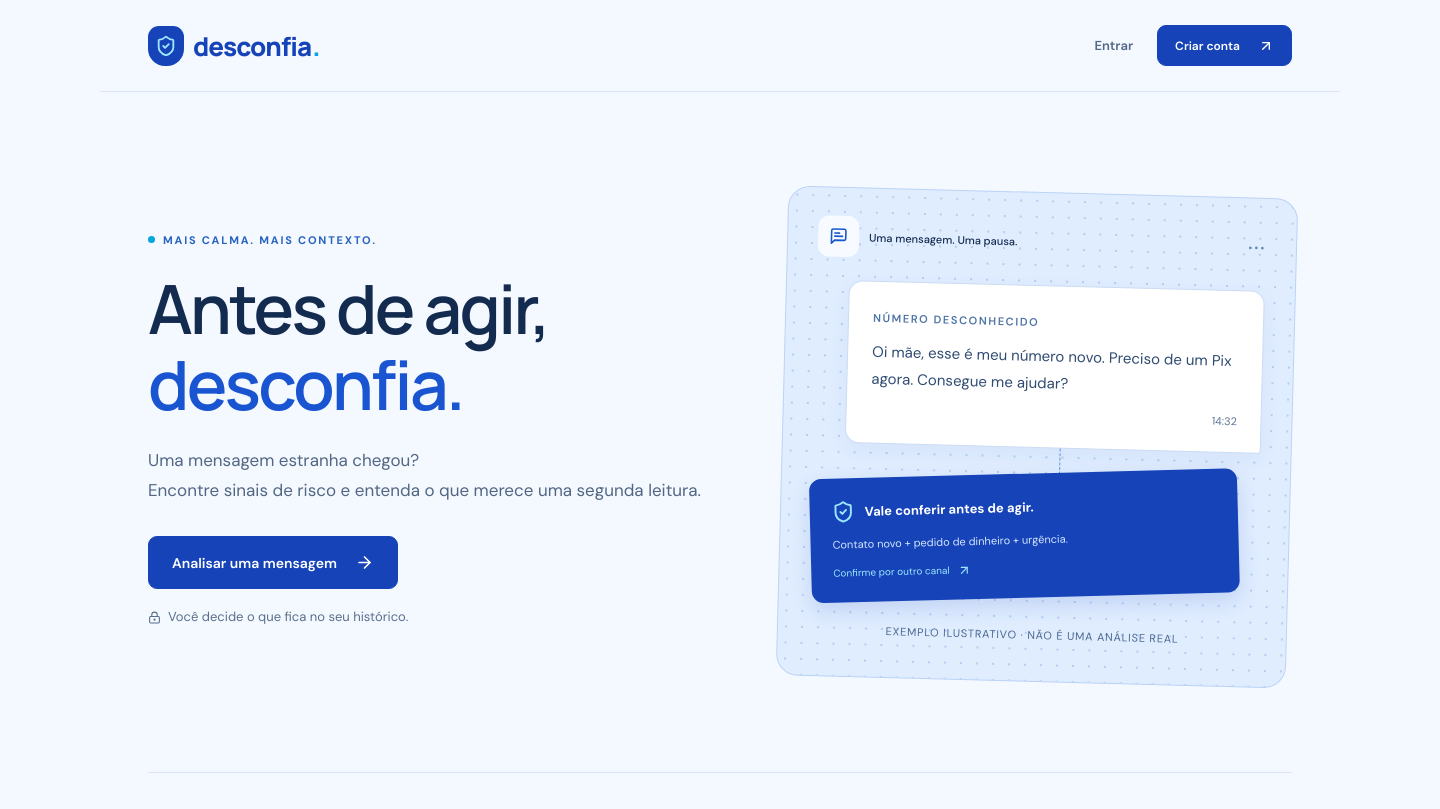
Test: Fluxos do Desconfia › encerra a sessão ao receber erro 401 durante uma ação autenticada
The image size is (1440, 809).
Step 1. Click the button "Entrar" → (1114, 46), box [1094,29,1133,62]
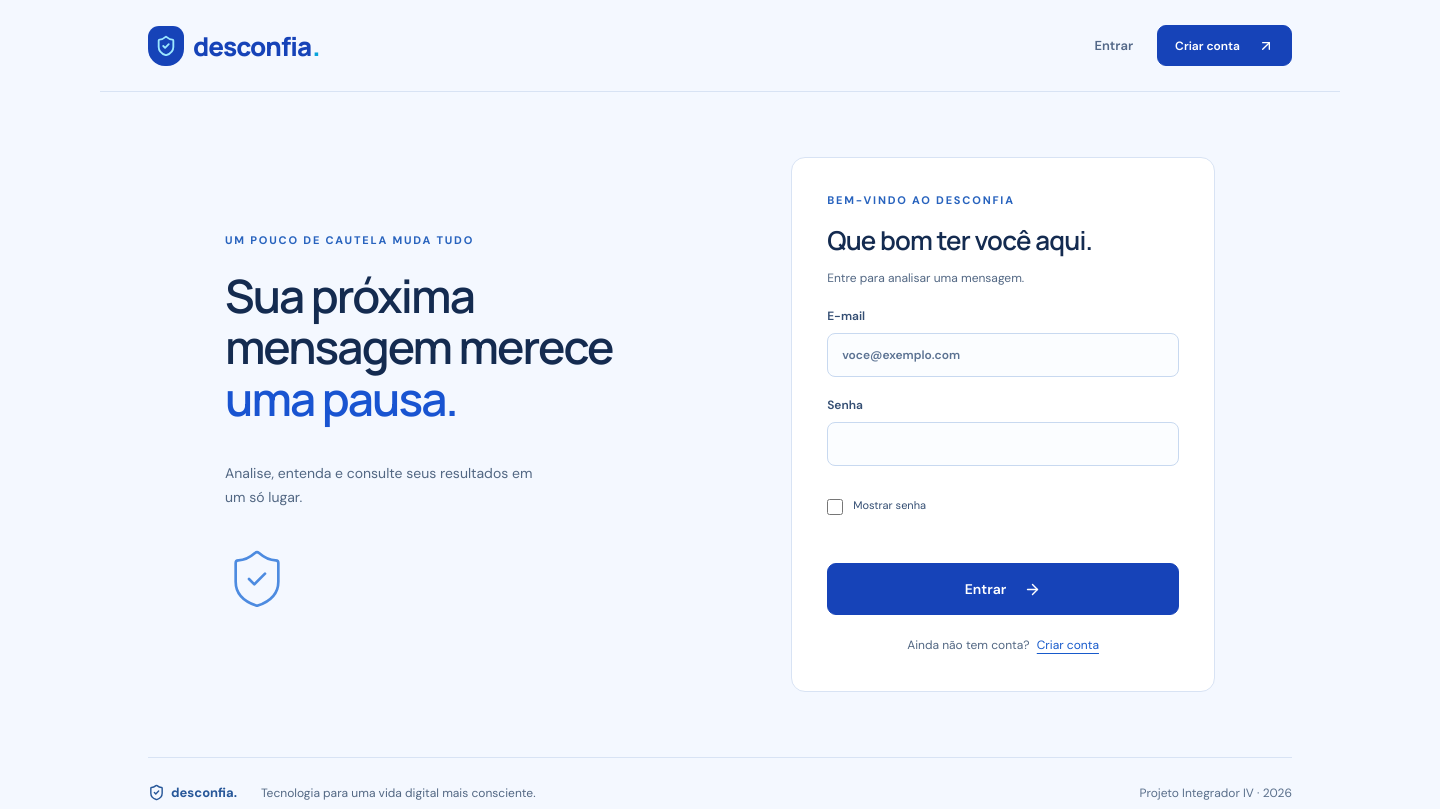
Step 2. Type "teste@example.com" into the field labelled "E-mail" → (1003, 355), box [827,333,1179,377]
Step 3. Type "Teste123!" into the password field labelled "Senha" → (1003, 444), box [827,422,1179,466]
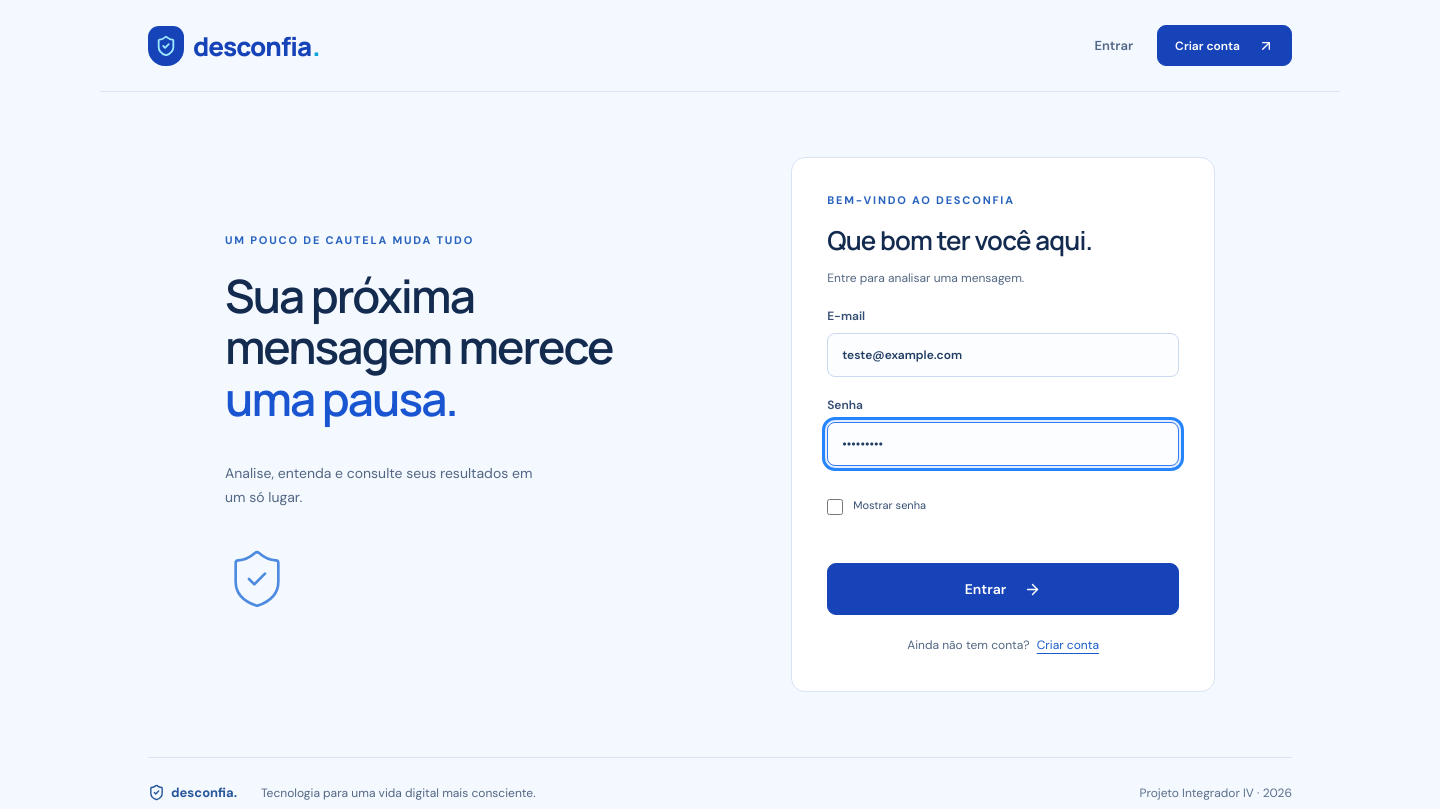
Step 4. Click the button "Entrar" below "Mostrar senha" → (1003, 589), box [827,563,1179,615]
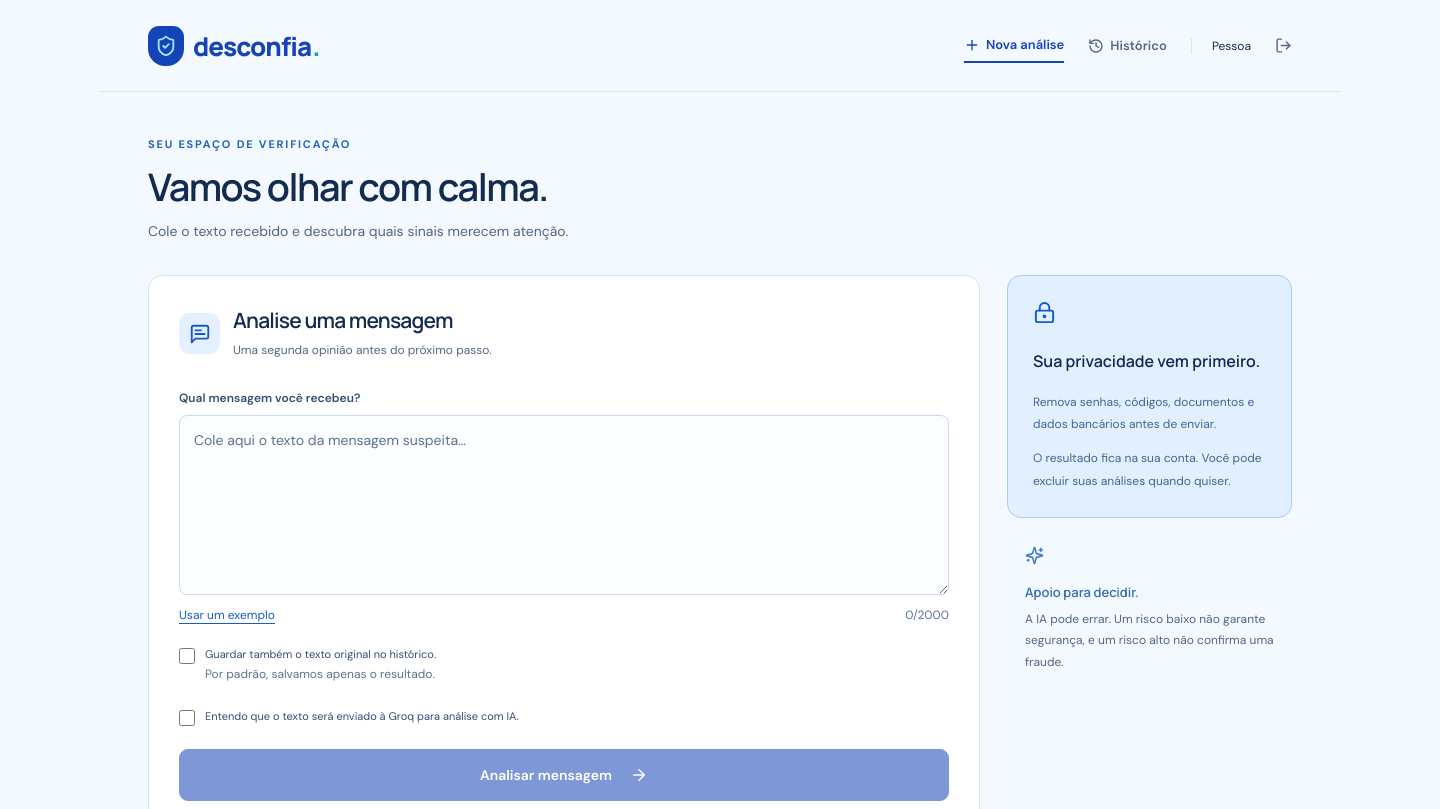
Now the heading "Vamos olhar com calma." is shown, box [148,160,548,212]
Step 5. Type "Teste de sessão" into the text box labelled "Qual mensagem você recebeu?" → (564, 505), box [179,415,949,595]
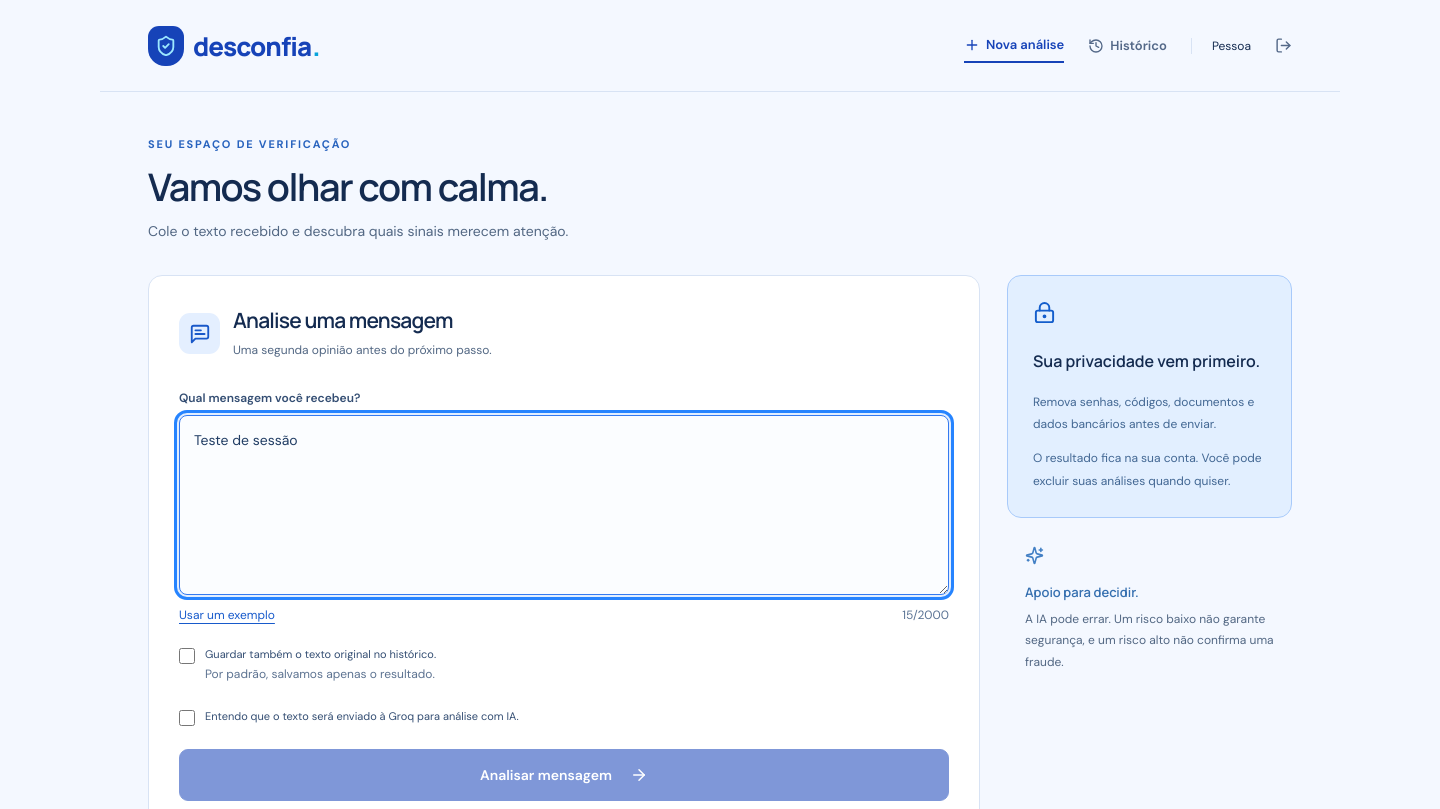
Step 6. Click the checkbox labelled "Entendo que o texto será enviado à Groq para análise com IA." → (187, 718), box [179,710,195,726]
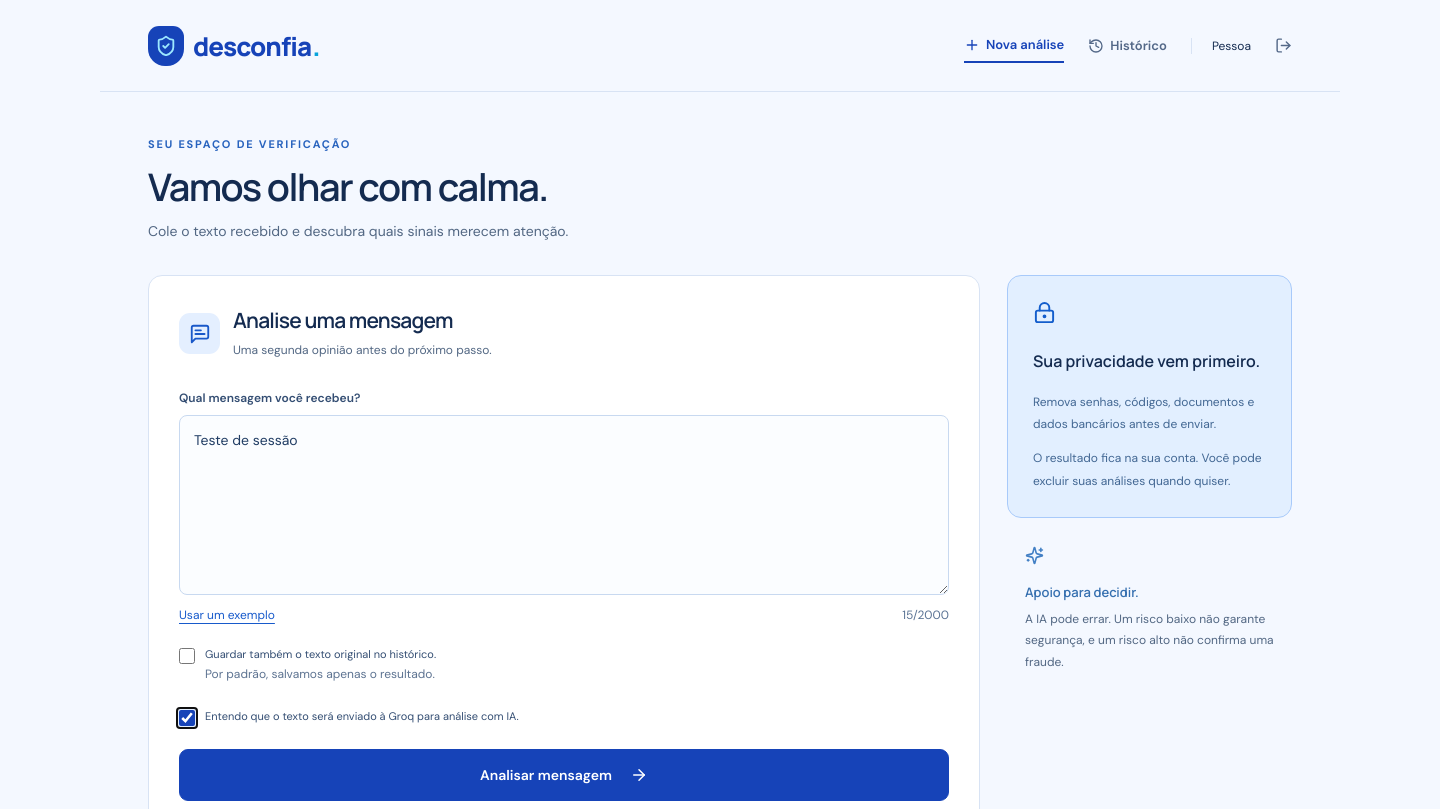
Step 7. Click the button "Analisar mensagem" → (564, 774), box [179,748,949,800]
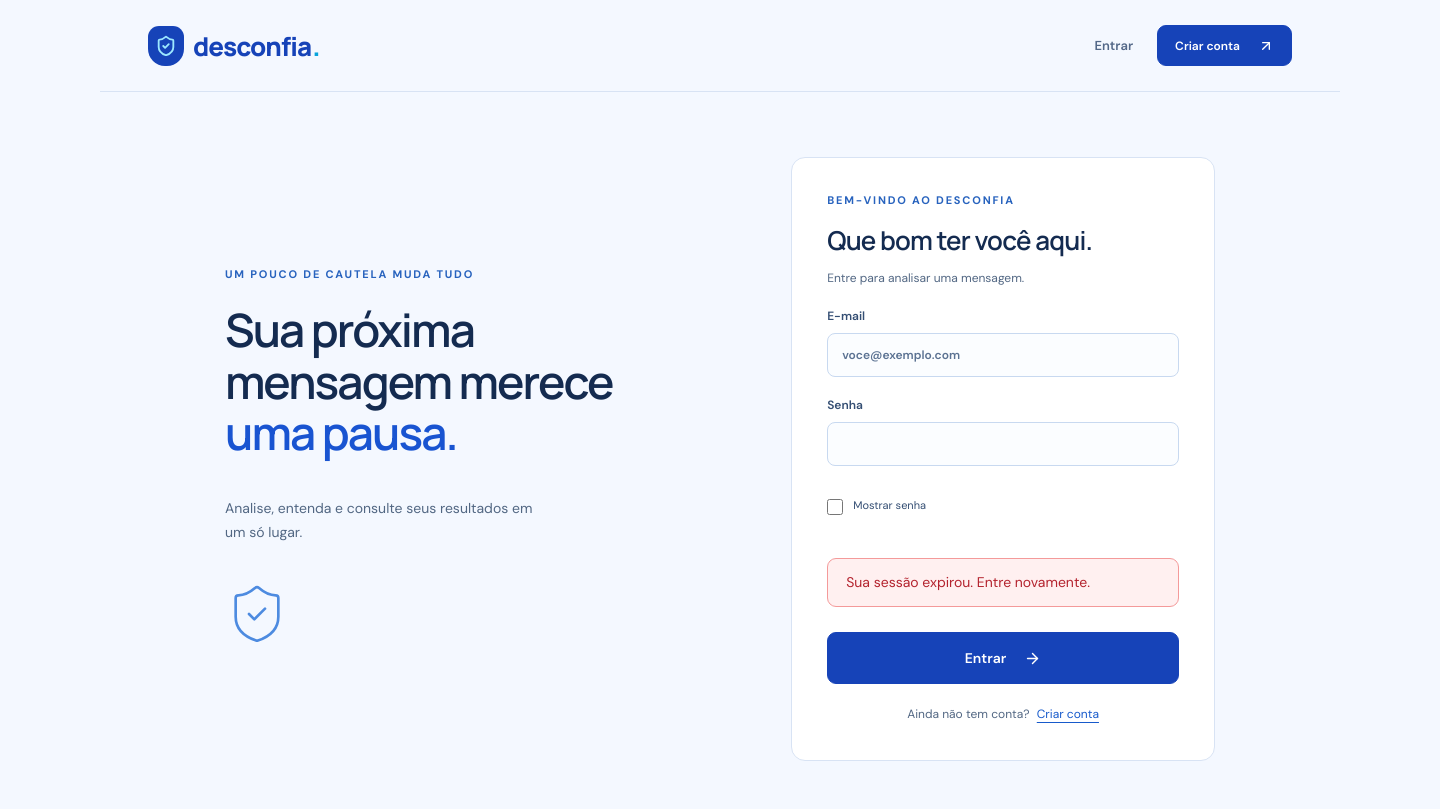
Now the message reads "Sua sessão expirou. Entre novamente.", box [846,573,1090,591]
Now the heading "Que bom ter você aqui." is shown, box [827,222,1092,258]
